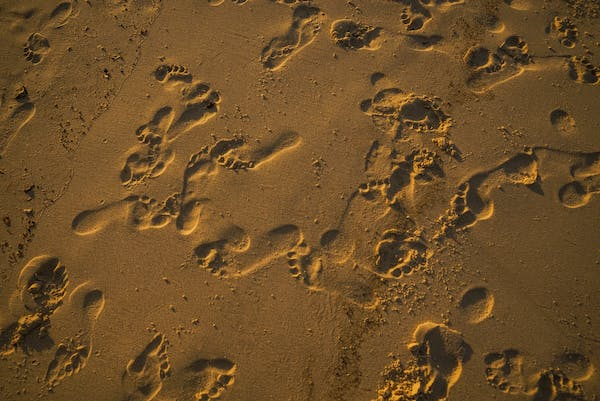human_foot_print: (12, 5, 600, 399)
